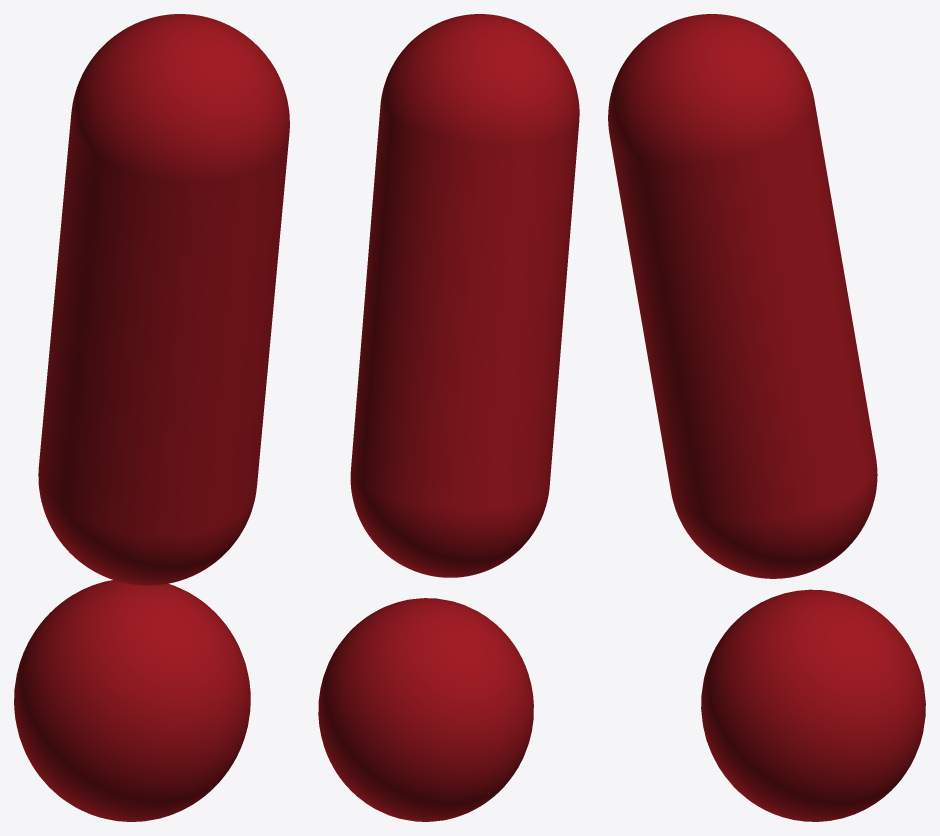
File: Attention.fbx
3 views of the same model, side by side, from view 1: azimuth 30°, elevation 25°; view 2: azimuth 150°, elevation 25°; view 3: azimuth 270°, elevation 25° (orthographic). The views are drawn at different scales.
Parts seen in each view (by area): view 1: node_id33 (×2); view 2: node_id33 (×2); view 3: node_id33 (×2).
Part boxes in pixels (x1,y1,x2,y2): node_id33 (×2): (14,14,289,821); node_id33 (×2): (318,14,579,821); node_id33 (×2): (608,14,925,821).
Size of the model in its own units: 0.0899 by 0.3468 by 0.1271.
Materials: 2 (2 with a texture image).
